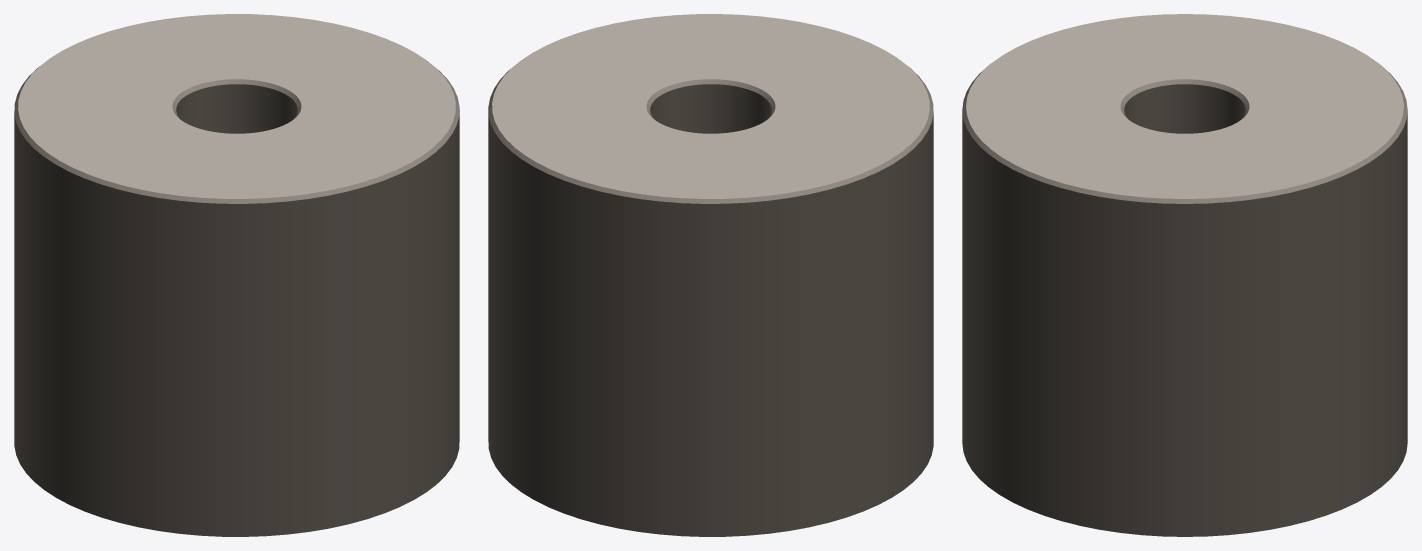
File: blackhole.FBX
3 renders of one model, left to right at view 1: azimuth 30°, elevation 25°; view 2: azimuth 150°, elevation 25°; view 3: azimuth 270°, elevation 25°, orthographic.
Parts seen in each view (by area): view 1: blackhole; view 2: blackhole; view 3: blackhole.
Boxes of the visible parts, x1=… form: blackhole: x1=14, y1=14, x2=459, y2=536; blackhole: x1=488, y1=14, x2=933, y2=536; blackhole: x1=962, y1=14, x2=1407, y2=536.
Bounding box in the file's own units: 236 × 197 × 236.
1 material, 1 textured.
